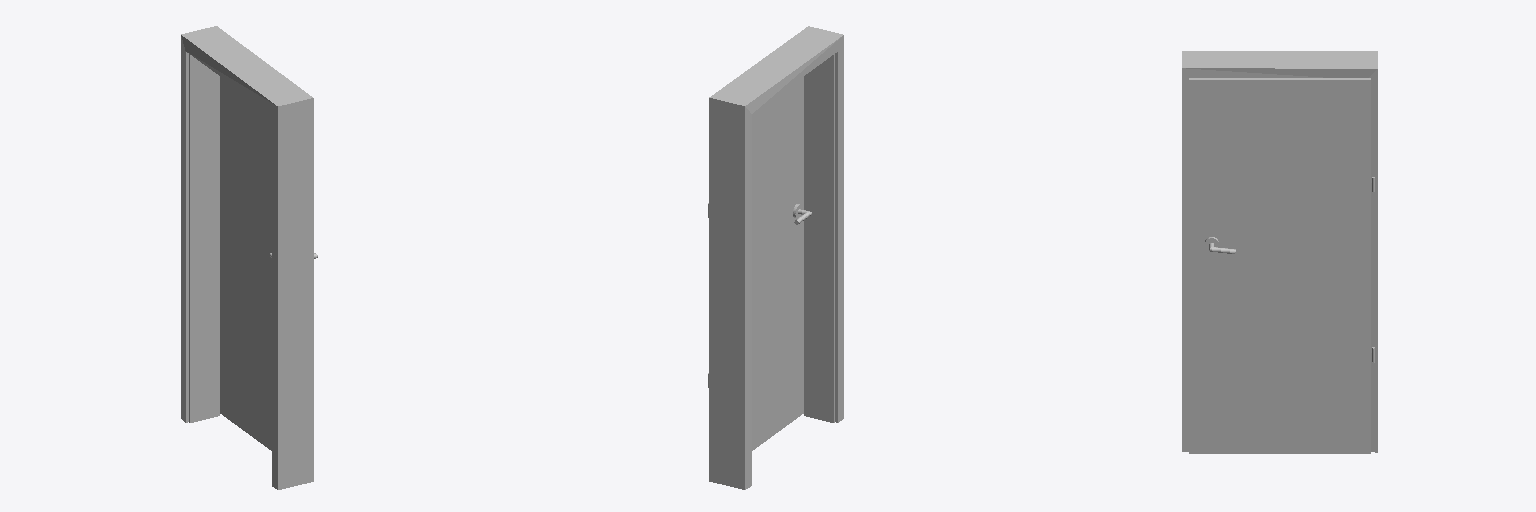
The model's file is door100.obj.
The picture shows the model from 3 angles: view 1: azimuth 30°, elevation 25°; view 2: azimuth 150°, elevation 25°; view 3: azimuth 270°, elevation 25°; orthographic projection.
Visible parts, largest first — view 1: Cylinder.005, Cylinder.001; view 2: Cylinder.005, Cylinder.001; view 3: Cylinder.001, Cylinder.005.
Boxes of the visible parts, <box> form: Cylinder.005: <box>181,26,313,489</box>; Cylinder.001: <box>220,77,271,450</box>; Cylinder.005: <box>708,26,843,489</box>; Cylinder.001: <box>708,77,803,450</box>; Cylinder.001: <box>1189,78,1374,453</box>; Cylinder.005: <box>1182,51,1377,452</box>.
Bounding box in the file's own units: 0.3039 × 2.05 × 0.95.